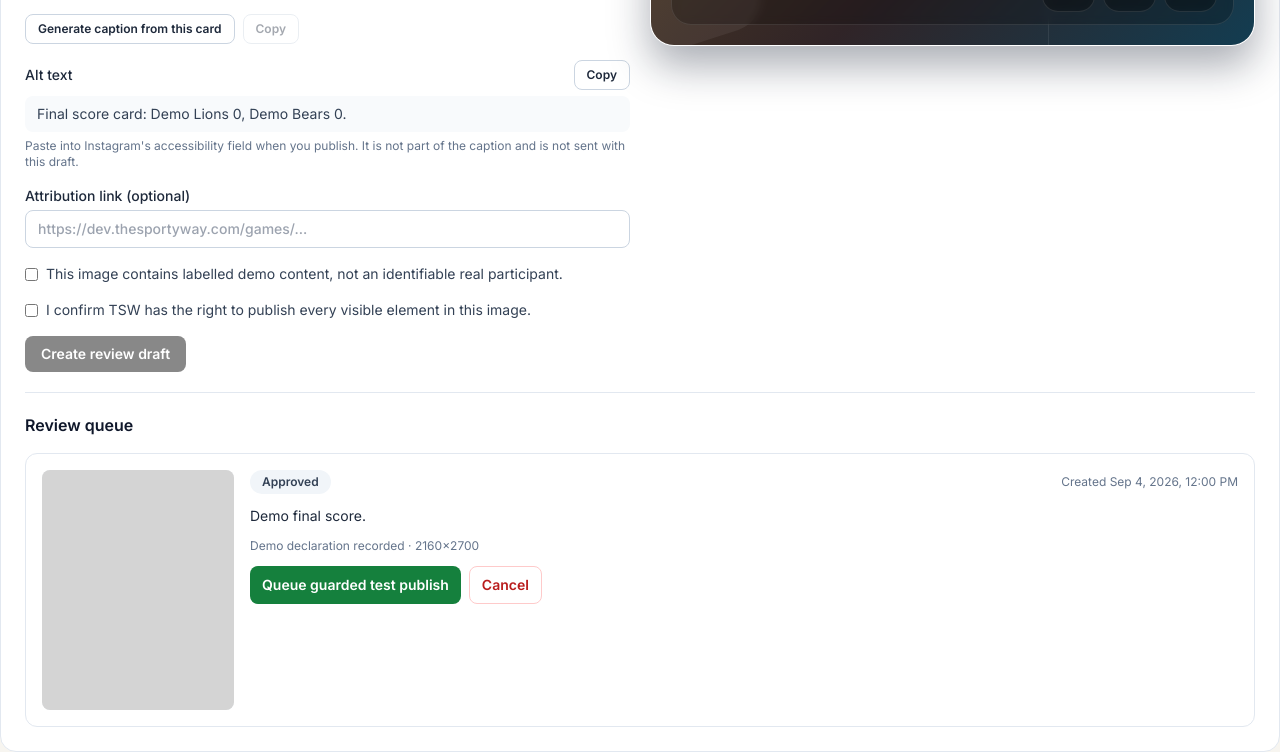
Test case: InstagramSocialPostPanel › queues an approved post only after explicit delivery confirmation
(page scrolled)
Click the button "Queue guarded test publish" at (355, 585), box 250,566 -> 461,604
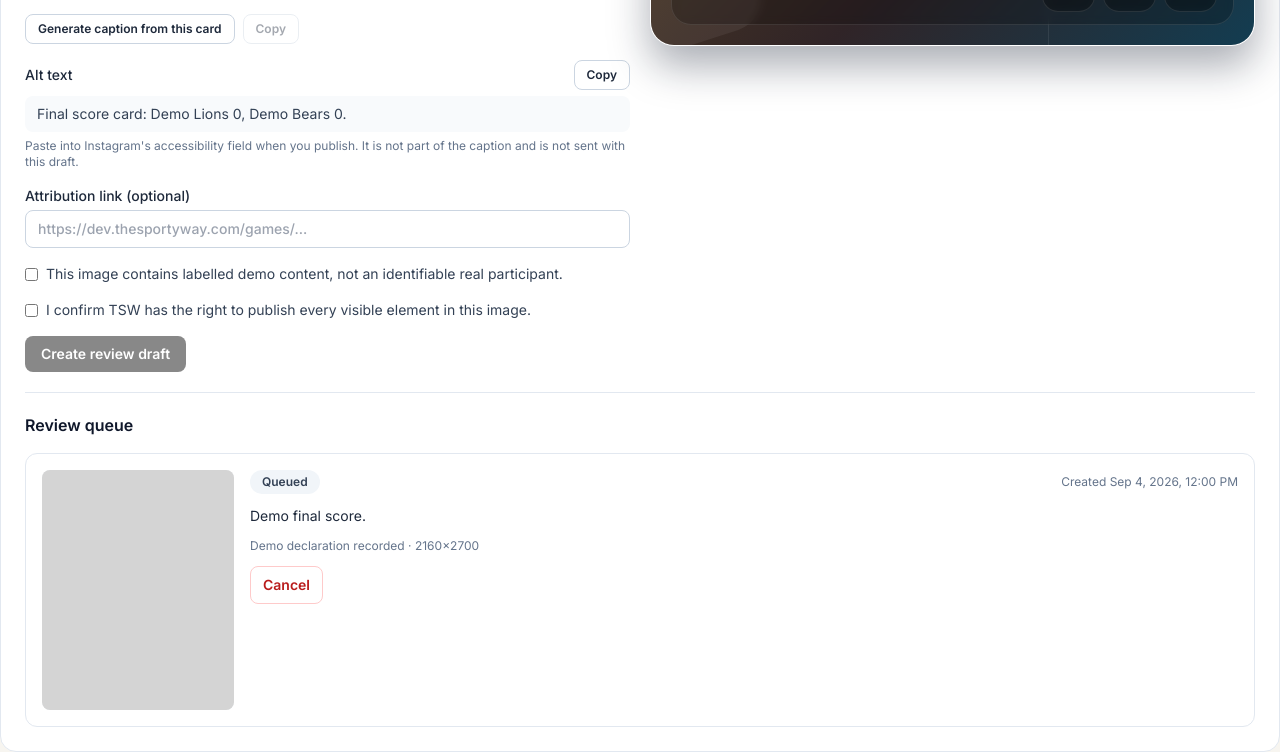
Expected: the text "Queued" is shown, 250,470 -> 320,494
